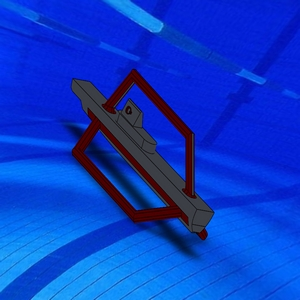submarine: (63, 64, 218, 243)
